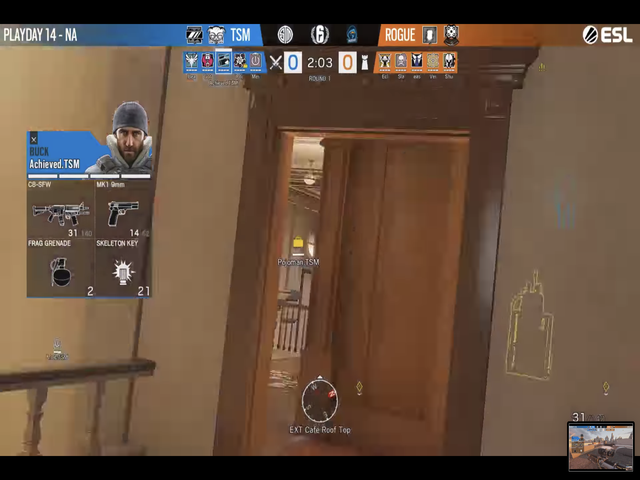0_blue: (284, 51, 301, 73)
